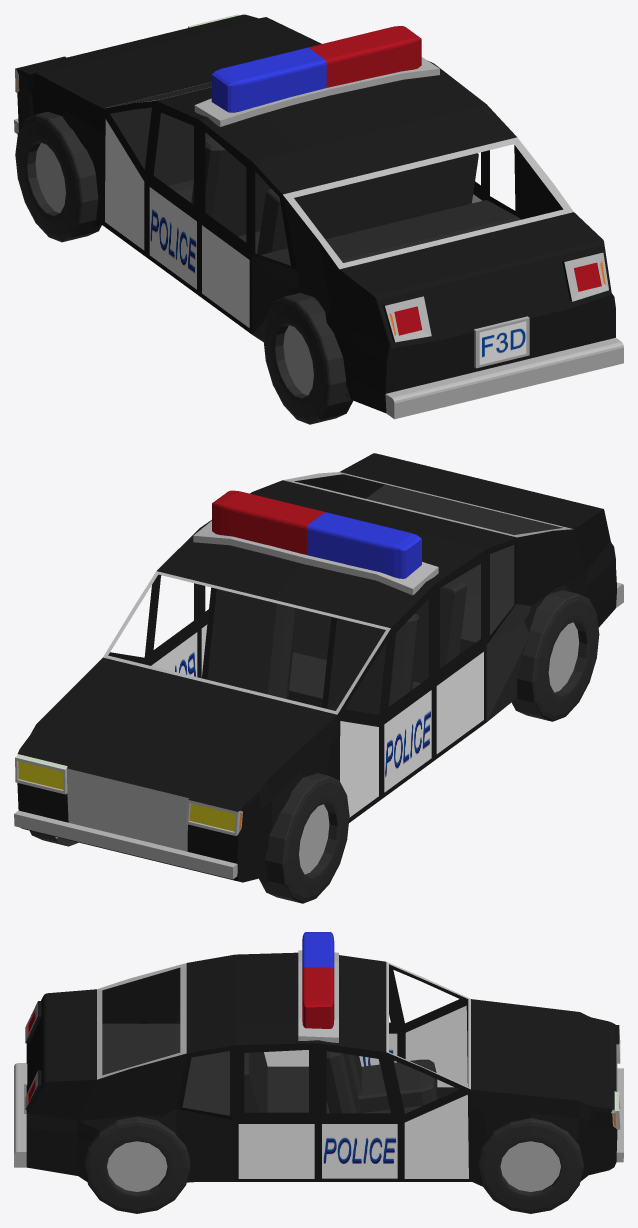
Rendered from cop_car.glb.
3 renders of one model, top to bottom at view 1: azimuth 30°, elevation 25°; view 2: azimuth 150°, elevation 25°; view 3: azimuth 270°, elevation 25°, orthographic. The views are drawn at different scales.
Parts seen in each view (by area): view 1: police_car; view 2: police_car; view 3: police_car.
Boxes of the visible parts, x1=… form: police_car: x1=14, y1=14, x2=623, y2=424; police_car: x1=14, y1=453, x2=623, y2=903; police_car: x1=14, y1=932, x2=623, y2=1213.
Bounding box in the file's own units: 1.8 × 1.61 × 4.5.
Materials: 10 (2 with a texture image).
